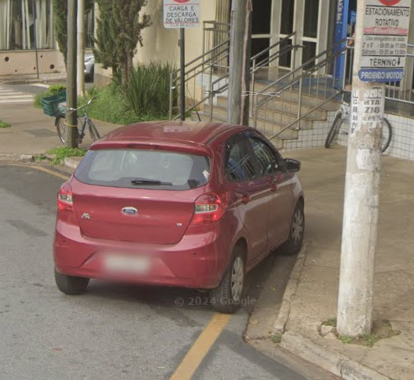car: (50, 84, 308, 316)
